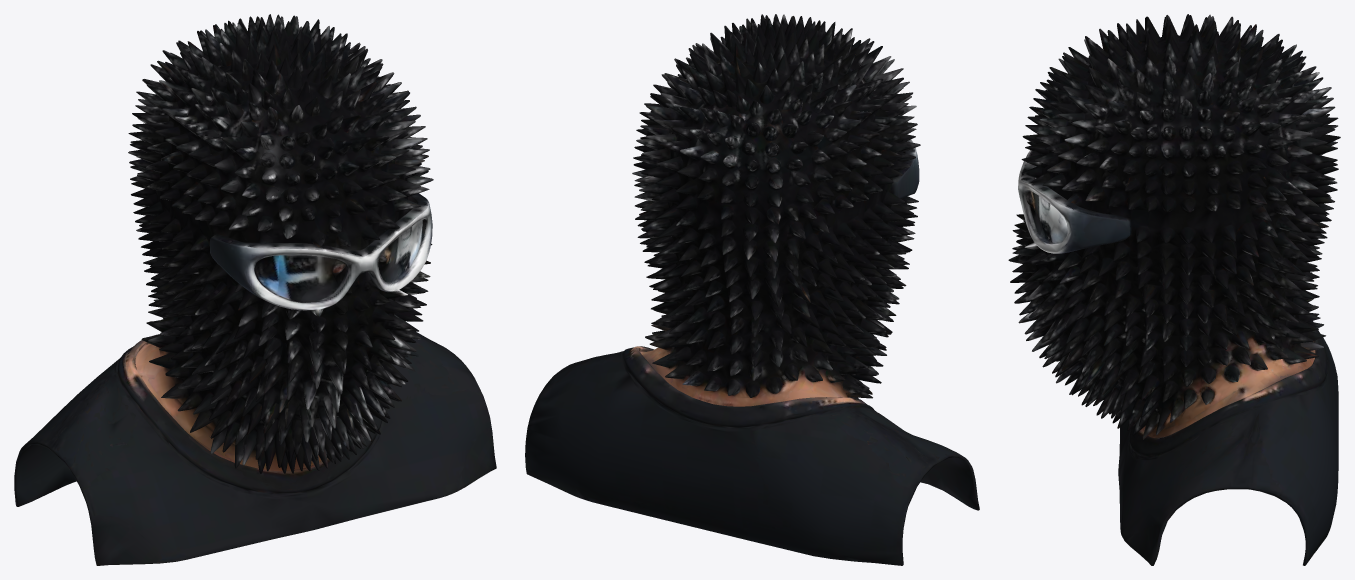
File: founder.glb
3 views of the same model, side by side, from view 1: azimuth 30°, elevation 25°; view 2: azimuth 150°, elevation 25°; view 3: azimuth 270°, elevation 25° (orthographic). The views are drawn at different scales.
Parts seen in each view (by area): view 1: node_0; view 2: node_0; view 3: node_0.
Part boxes in pixels (box(x1,y1,x2,y2)): node_0: box(14, 14, 496, 565); node_0: box(525, 14, 979, 565); node_0: box(1008, 14, 1340, 565).
Bounding box in the file's own units: 0.7445 × 0.8347 × 0.5659.
1 material, 1 textured.
